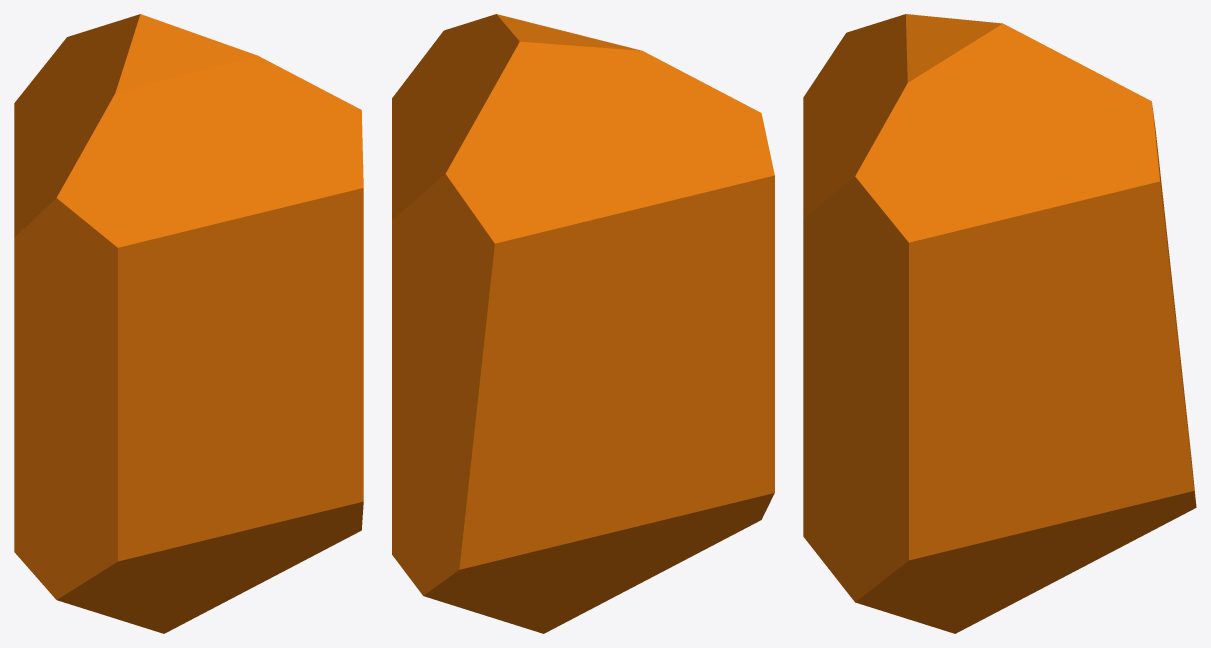
Rendered from Ore.fbx.
3 views of the same model, side by side, from view 1: azimuth 30°, elevation 25°; view 2: azimuth 150°, elevation 25°; view 3: azimuth 270°, elevation 25° (orthographic).
Parts seen in each view (by area): view 1: Sphere; view 2: Sphere; view 3: Sphere.
Part boxes in pixels (box(x1,y1,x2,y2)): Sphere: box(14, 14, 363, 633); Sphere: box(392, 14, 774, 633); Sphere: box(803, 14, 1196, 633).
Bounding box in the file's own units: 0.2777 × 0.4419 × 0.2579.
